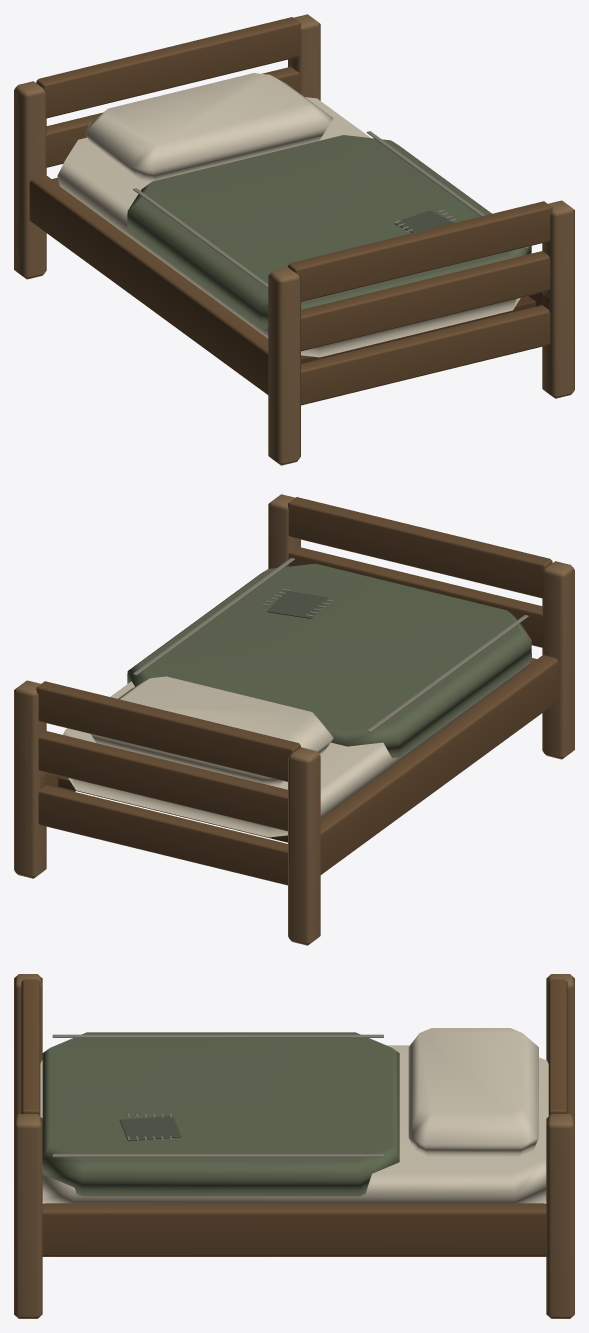
Rendered from Cot01.fbx.
The picture shows the model from 3 angles, top to bottom: view 1: azimuth 30°, elevation 25°; view 2: azimuth 150°, elevation 25°; view 3: azimuth 270°, elevation 25°; orthographic projection. The views are drawn at different scales.
Parts seen in each view (by area): view 1: Cot01.001; view 2: Cot01.001; view 3: Cot01.001.
Boxes of the visible parts, x1,y1,x2,y2 form: Cot01.001: [14, 14, 574, 465]; Cot01.001: [14, 494, 574, 945]; Cot01.001: [14, 974, 574, 1318].
Bounding box in the file's own units: 133 × 81.5 × 207.
